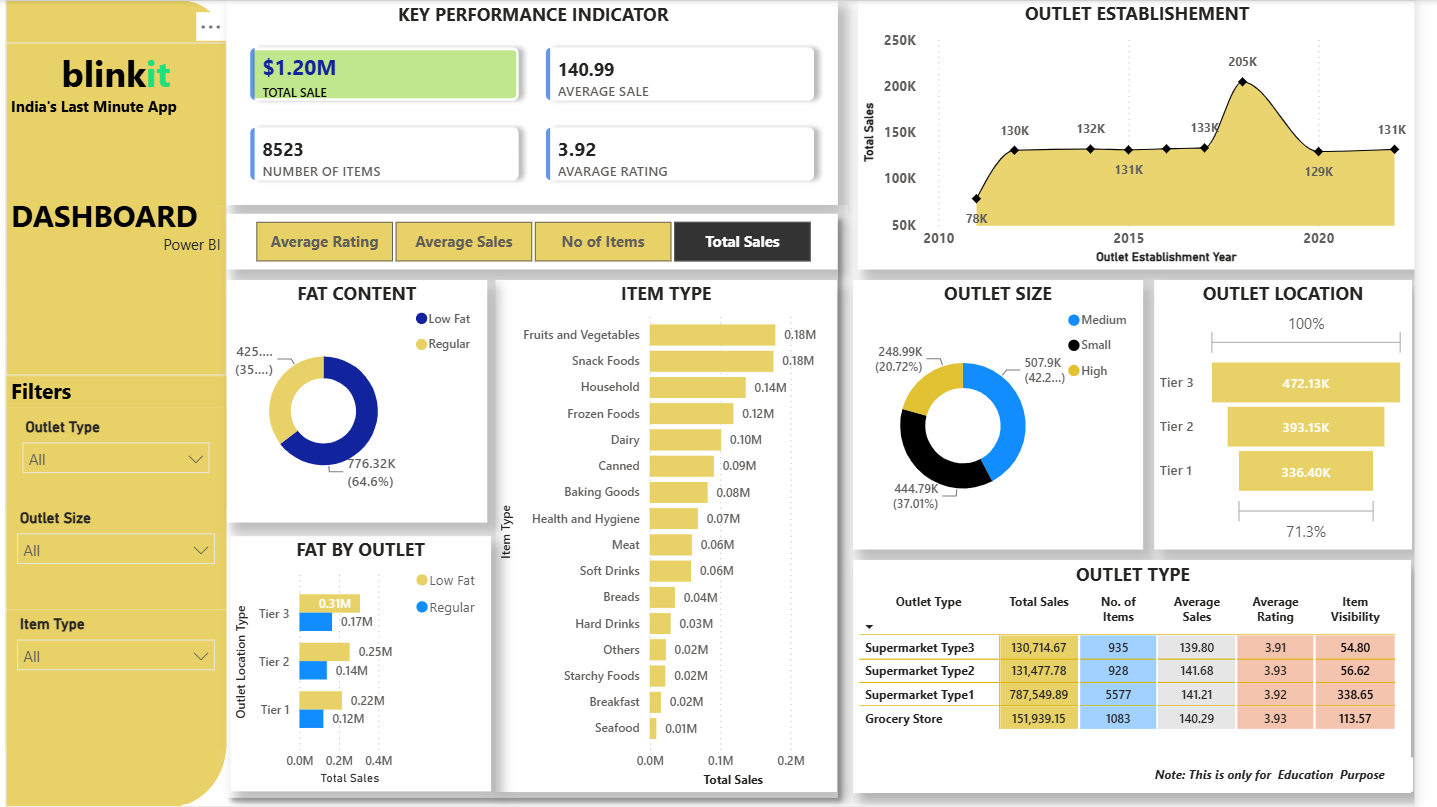

Layout of this report page (visuals, bound fields, positions):
{"tool":"powerbi","page":{"name":"Page 1","canvas":[1280,720],"ordinal":0},"visuals":[{"type":"shape","box":[24.1,614.1,196.6,106.2],"z":0,"group":"g1"},{"type":"shape","box":[24.1,0,196.6,78.4],"z":1000,"group":"g1"},{"type":"shape","box":[237.6,120.6,196.6,322.1],"z":2000,"group":"g1"},{"type":"textbox","box":[24.1,37.4,196.6,298],"z":3000,"group":"g1"},{"type":"cardVisual","title":"KEY PERFORMANCE INDICATOR","fields":{"Data":["BlinkIT Grocery Data.Total Sales","BlinkIT Grocery Data.Average Sales","BlinkIT Grocery Data.No of Items","BlinkIT Grocery Data.Average Rating"]},"box":[220.7,0,544.1,182.2],"z":4000,"group":"g1"},{"type":"shape","box":[212.3,182.2,562.2,536.9],"z":5000,"group":"g1"},{"type":"slicer","fields":{"Values":["Fat.Matrices Parameters"]},"box":[220.7,190.6,544.1,49.5],"z":6000,"group":"g1"},{"type":"barChart","title":"ITEM TYPE","fields":{"Y":["BlinkIT Grocery Data.Total Sales"],"Category":["BlinkIT Grocery Data.Item Type"]},"box":[460.8,249.7,304,456],"z":7000,"group":"g1"},{"type":"lineChart","title":"OUTLET ESTABLISHEMENT","fields":{"Category":["BlinkIT Grocery Data.Outlet Establishment Year"],"Y":["BlinkIT Grocery Data.Total Sales"]},"box":[783.5,0,497.1,240.1],"z":8000,"group":"g1"},{"type":"donutChart","title":"OUTLET SIZE","fields":{"Y":["BlinkIT Grocery Data.Total Sales"],"Category":["BlinkIT Grocery Data.Outlet Size"]},"box":[779.3,249.7,258.2,240.1],"z":9000,"group":"g1"},{"type":"funnel","title":"OUTLET LOCATION","fields":{"Category":["BlinkIT Grocery Data.Outlet Location Type"],"Y":["BlinkIT Grocery Data.Total Sales"]},"box":[1047.2,249.7,229.2,240.1],"z":10000,"group":"g1"},{"type":"pivotTable","title":"OUTLET TYPE","fields":{"Rows":["BlinkIT Grocery Data.Outlet Type"],"Values":["BlinkIT Grocery Data.Total Sales","BlinkIT Grocery Data.No of Items","BlinkIT Grocery Data.Average Sales","BlinkIT Grocery Data.Average Rating","Sum(BlinkIT Grocery Data.Item Visibility)"]},"box":[779.3,498.3,497.1,207.5],"z":11000,"group":"g1"},{"type":"textbox","box":[1042.2,674.4,235.3,30.2],"z":12000,"group":"g1"},{"type":"slicer","fields":{"Values":["BlinkIT Grocery Data.Outlet Type"]},"box":[24.1,363.1,196.6,88.1],"z":13000,"group":"g1"},{"type":"slicer","fields":{"Values":["BlinkIT Grocery Data.Outlet Size"]},"box":[24.1,448.8,196.6,94.1],"z":14000,"group":"g1"},{"type":"slicer","fields":{"Values":["BlinkIT Grocery Data.Item Type"]},"box":[24.1,542.9,196.6,124.3],"z":15000,"group":"g1"},{"type":"textbox","title":"Filters","box":[24.1,335.4,196.6,27.7],"z":16000,"group":"g1"},{"type":"donutChart","title":"FAT CONTENT","fields":{"Y":["BlinkIT Grocery Data.Total Sales"],"Category":["BlinkIT Grocery Data.Item Fat Content"]},"box":[220.7,249.7,231.6,216],"z":17000,"group":"g1"},{"type":"clusteredBarChart","title":"FAT BY OUTLET","fields":{"Y":["BlinkIT Grocery Data.Total Sales"],"Category":["BlinkIT Grocery Data.Outlet Location Type"],"Series":["BlinkIT Grocery Data.Item Fat Content"]},"box":[224.5,477.8,231.6,226.8],"z":18000,"group":"g1"},{"type":"group","id":"g1","title":"Group 1","box":[24.1,0,1256.5,720.2],"z":18001}]}

Visuals, with their boxes in screenshot pixels (x1, y1, x2, y2), scaled from the page's 1280x720 canvas onto the 1437x807 screenshot:
shape: 27, 688, 248, 806
shape: 27, 0, 248, 88
shape: 267, 135, 487, 496
textbox: 27, 42, 248, 376
"KEY PERFORMANCE INDICATOR" cardVisual: 248, 0, 859, 204
shape: 238, 204, 869, 806
slicer - Fat.Matrices Parameters: 248, 214, 859, 269
"ITEM TYPE" barChart: 517, 280, 859, 791
"OUTLET ESTABLISHEMENT" lineChart: 880, 0, 1436, 269
"OUTLET SIZE" donutChart: 875, 280, 1165, 549
"OUTLET LOCATION" funnel: 1176, 280, 1433, 549
"OUTLET TYPE" pivotTable: 875, 559, 1433, 791
textbox: 1170, 756, 1434, 790
slicer - BlinkIT Grocery Data.Outlet Type: 27, 407, 248, 506
slicer - BlinkIT Grocery Data.Outlet Size: 27, 503, 248, 609
slicer - BlinkIT Grocery Data.Item Type: 27, 609, 248, 748
"Filters" textbox: 27, 376, 248, 407
"FAT CONTENT" donutChart: 248, 280, 508, 522
"FAT BY OUTLET" clusteredBarChart: 252, 536, 512, 790
"Group 1" group: 27, 0, 1436, 806
